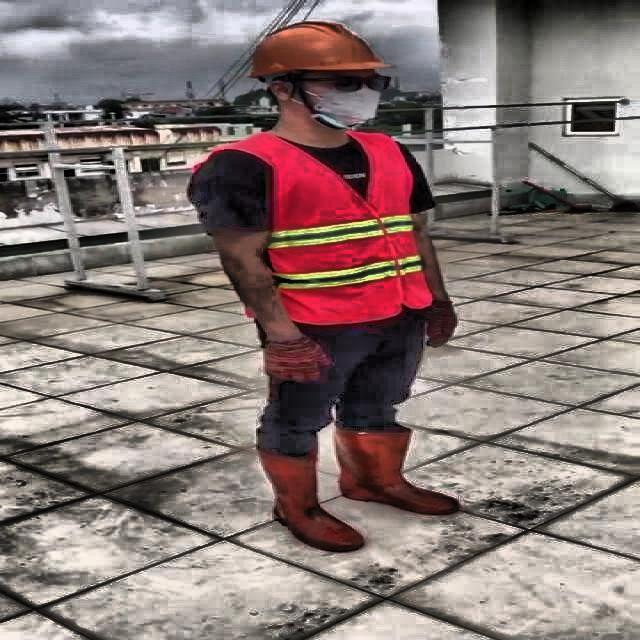safety_helmet: (244, 20, 386, 80)
safety_jacket: (252, 131, 430, 326)
